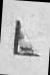N29: (2, 0, 48, 74)
